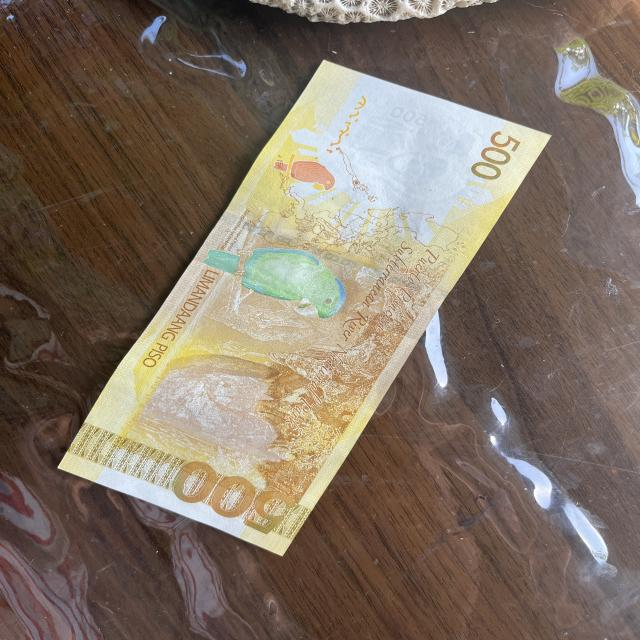500_big_parrot: (205, 242, 355, 322)
500_parrot_watermark: (269, 151, 343, 188)
value_watermark: (382, 105, 428, 127)
watermark: (351, 99, 481, 202)
